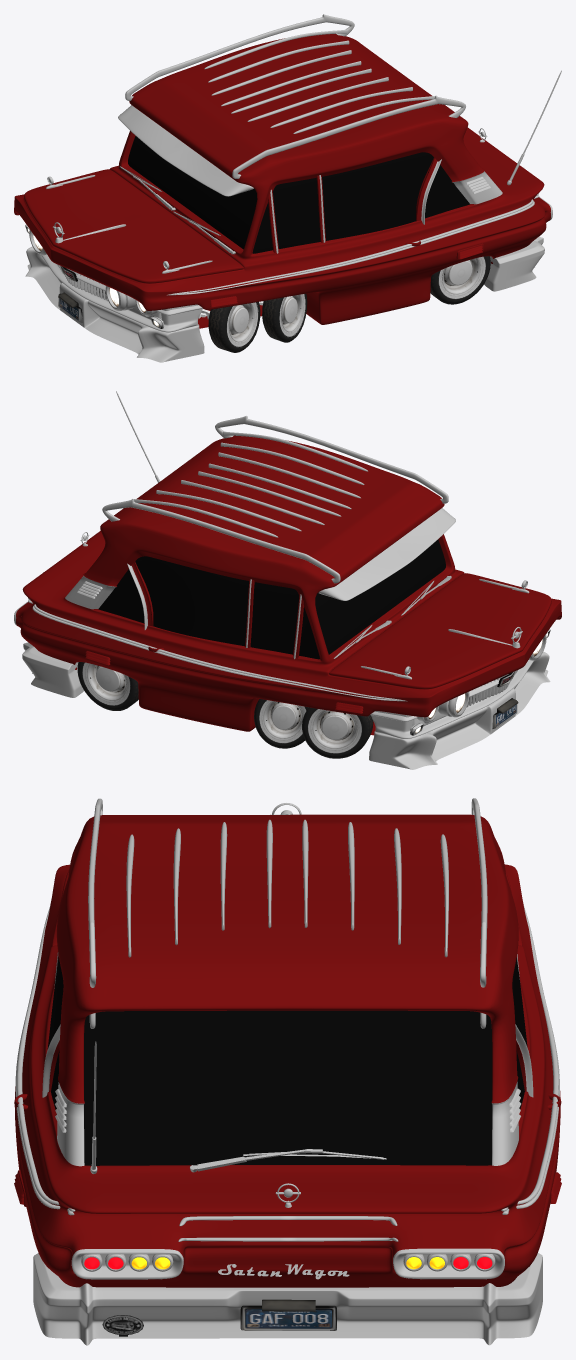
The model's file is ford_classic.glb.
3 views of the same model, one above another, from view 1: azimuth 30°, elevation 25°; view 2: azimuth 150°, elevation 25°; view 3: azimuth 270°, elevation 25° (orthographic). The views are drawn at different scales.
Visible parts, largest first — view 1: Plane.001_20, Plane.012_31, Plane.009_28, Plane.013_32, Cube.013_16, Plane.047_46, Cube.005_9, LP.003_19, LP.002_18, Plane.010_29, LP.001_17, Plane.002_21 (+6 smaller); view 2: Plane.001_20, Plane.012_31, Plane.009_28, Plane.013_32, Cube.013_16, Plane.047_46, Cube.005_9, LP.003_19, LP.002_18, LP.001_17, Plane.010_29, Plane.002_21 (+5 smaller); view 3: Plane.001_20, Plane.011_30, Plane.010_29, Cube.013_16, Cube.008_11, Plane.019_36, Cube.005_9, Cube.010_13, Plane.012_31, Plane.041_41, Plane.039_39, Plane.042_42 (+4 smaller).
Boxes of the visible parts, box(x1,y1,x2,y2) form: Plane.001_20: box(14, 34, 552, 324); Plane.012_31: box(252, 152, 469, 253); Plane.009_28: box(25, 246, 204, 362); Plane.013_32: box(128, 136, 257, 249); Cube.013_16: box(204, 29, 436, 133); Plane.047_46: box(118, 105, 253, 196); Cube.005_9: box(125, 14, 465, 178); LP.003_19: box(208, 302, 260, 352); LP.002_18: box(430, 256, 490, 304); Plane.010_29: box(484, 237, 544, 291); LP.001_17: box(262, 293, 307, 342); Plane.002_21: box(41, 254, 202, 332); Plane.001_20: box(14, 435, 561, 731); Plane.012_31: box(98, 556, 319, 659); Plane.009_28: box(369, 651, 550, 769); Plane.013_32: box(315, 539, 445, 654); Cube.013_16: box(132, 431, 367, 537); Plane.047_46: box(318, 508, 455, 600); Cube.005_9: box(102, 416, 448, 583); LP.003_19: box(302, 707, 373, 758); LP.002_18: box(77, 662, 138, 710); LP.001_17: box(254, 699, 308, 748); Plane.010_29: box(22, 642, 84, 697); Plane.002_21: box(371, 660, 533, 738); Plane.001_20: box(14, 814, 560, 1287); Plane.011_30: box(84, 1010, 492, 1165); Plane.010_29: box(33, 1253, 542, 1345); Cube.013_16: box(126, 819, 448, 957); Cube.008_11: box(16, 905, 558, 1211); Plane.019_36: box(240, 1299, 336, 1330); Cube.005_9: box(88, 798, 487, 1028); Cube.010_13: box(178, 1216, 398, 1241); Plane.012_31: box(47, 956, 527, 1114); Plane.041_41: box(81, 1254, 495, 1271); Plane.039_39: box(42, 1024, 533, 1097); Plane.042_42: box(84, 1257, 492, 1269).
Bounding box in the file's own units: 0.00486 × 0.00204 × 0.00288.
10 materials, 2 textured.
